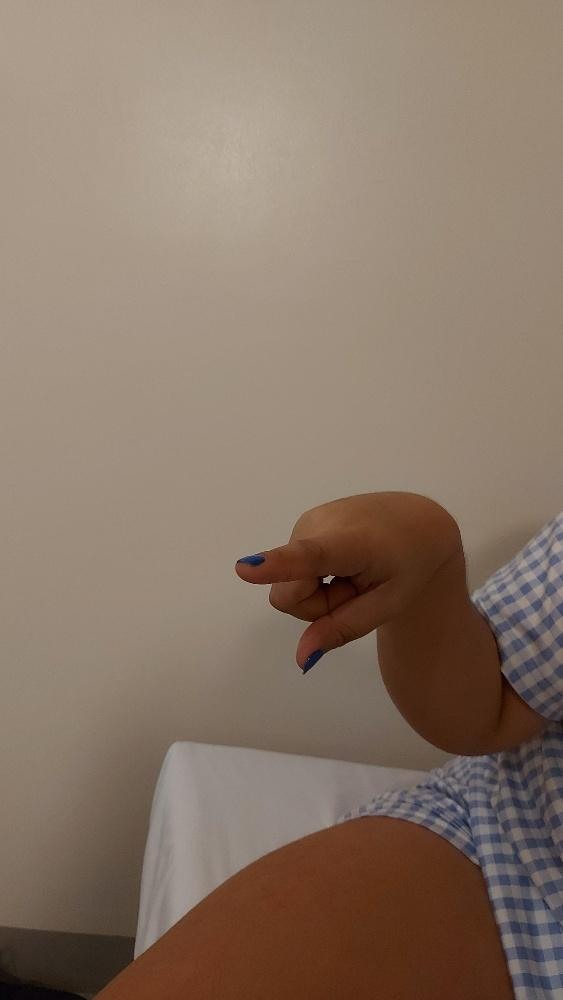z: (231, 487, 465, 677)
